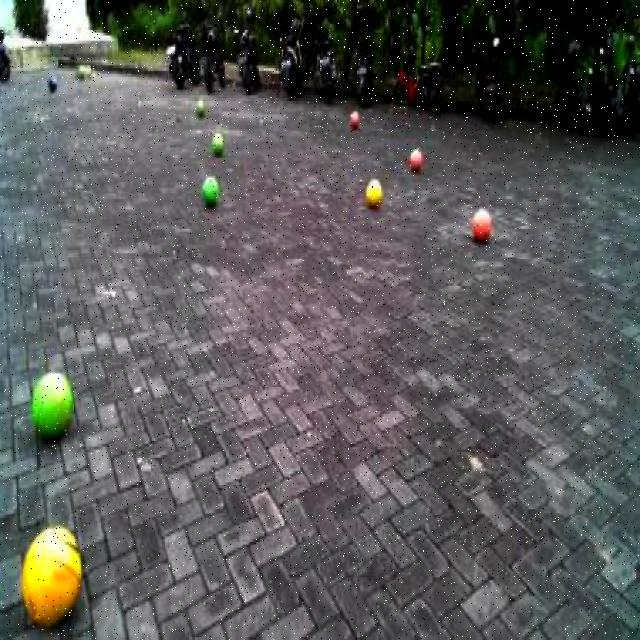buoy: (18, 510, 87, 628), (30, 363, 74, 446), (472, 202, 492, 242), (199, 169, 219, 204), (366, 173, 382, 211)
